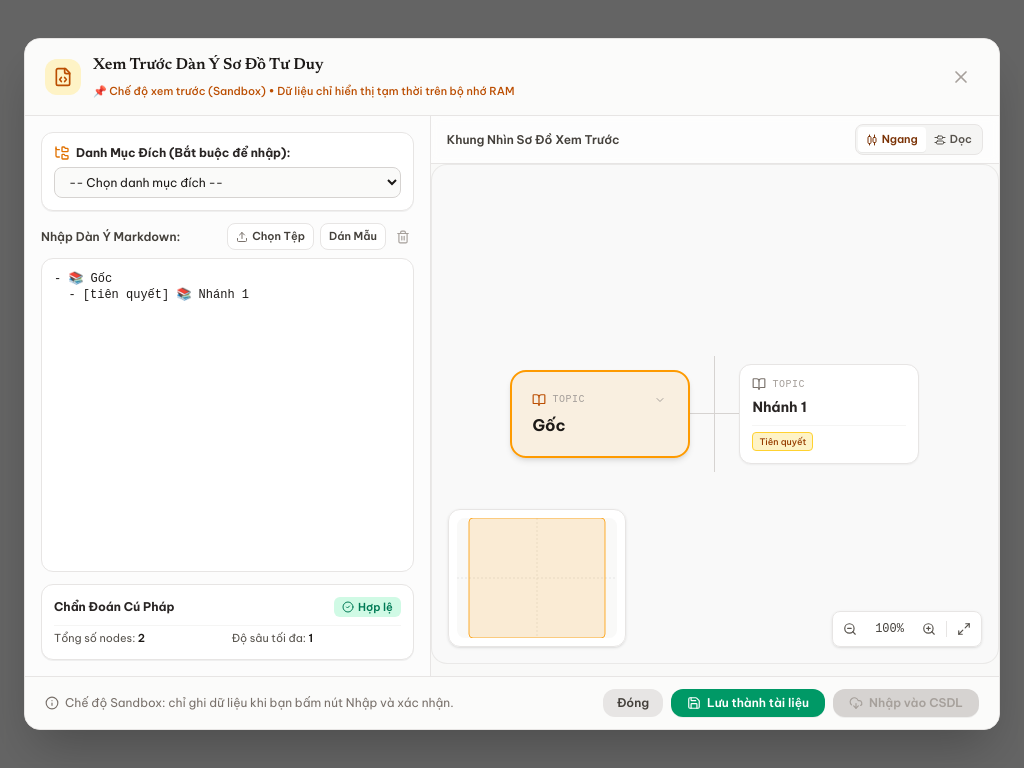
Test: Phase I2: Mind Map Preview-Only Sandbox Modal › Scenario 9: Opening Confirmation Dialog shows summary before committing write
The width and height of the screenshot is (1024, 768).
Step 1. Select "Phật Học" in the dropdown with test id "import-target-category-select" → (227, 183), box [54, 167, 401, 198]
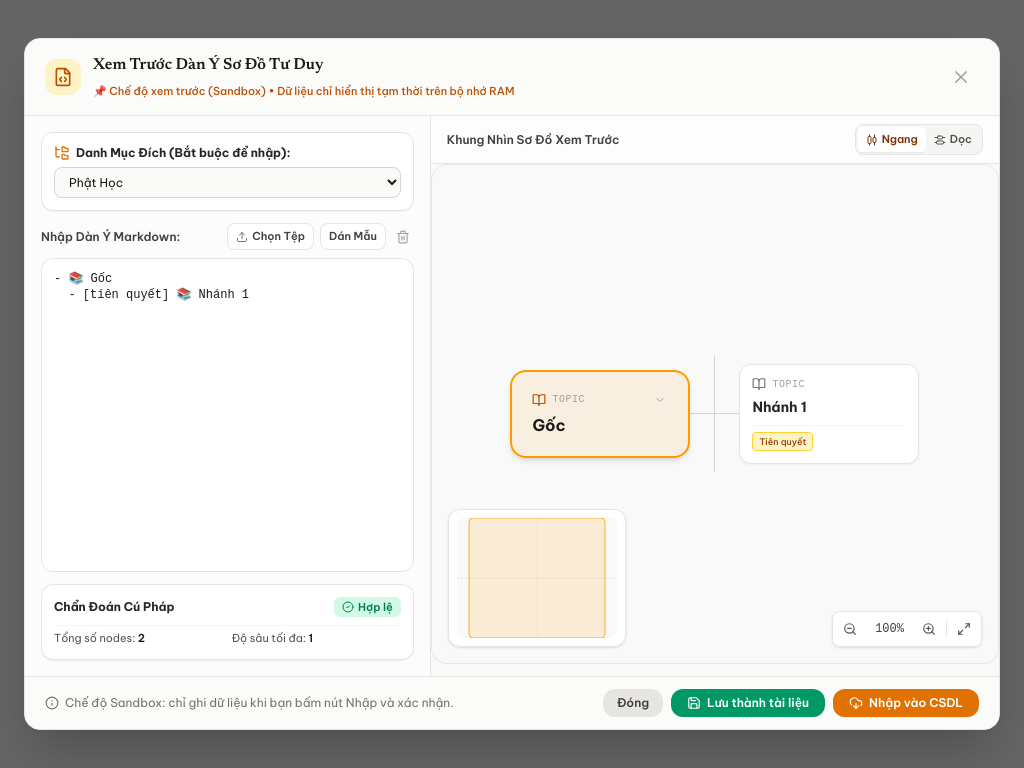
Step 2. Click the button with test id "btn-trigger-import" → click(906, 703), box [833, 689, 979, 717]
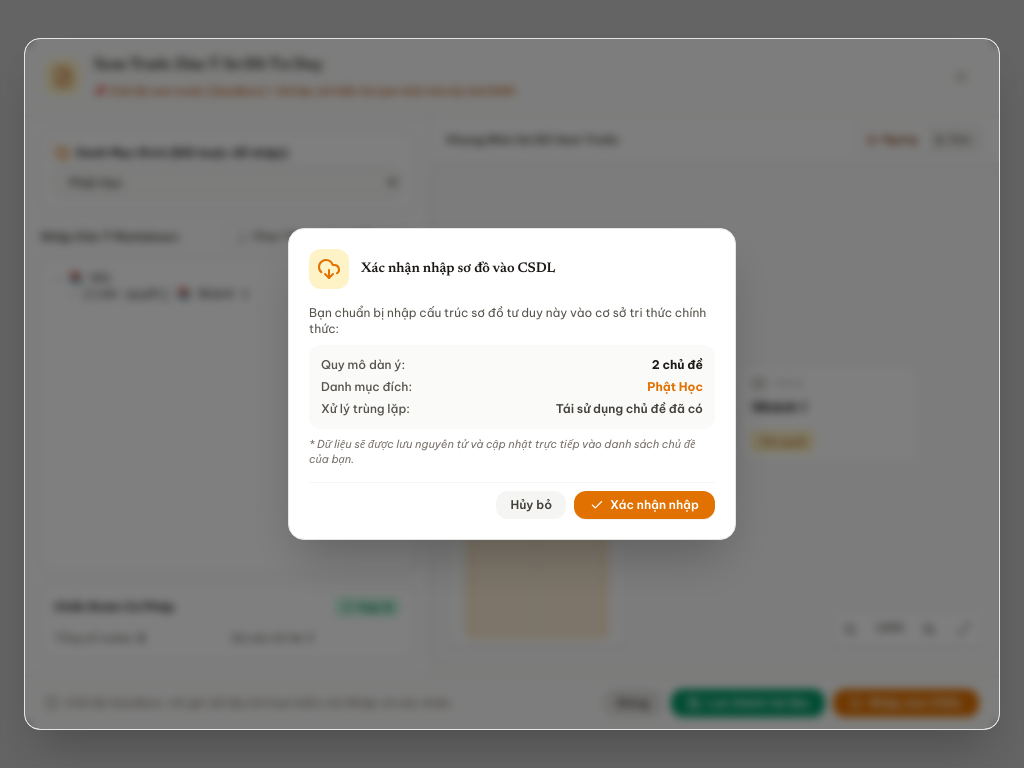
Now the element with test id "import-confirm-dialog" is shown
Now the element with test id "import-confirm-dialog" shows "Xác nhận nhập sơ đồ vào CSDL", box [361, 262, 556, 276]
Now the element with test id "import-confirm-dialog" shows "2 chủ đề"
